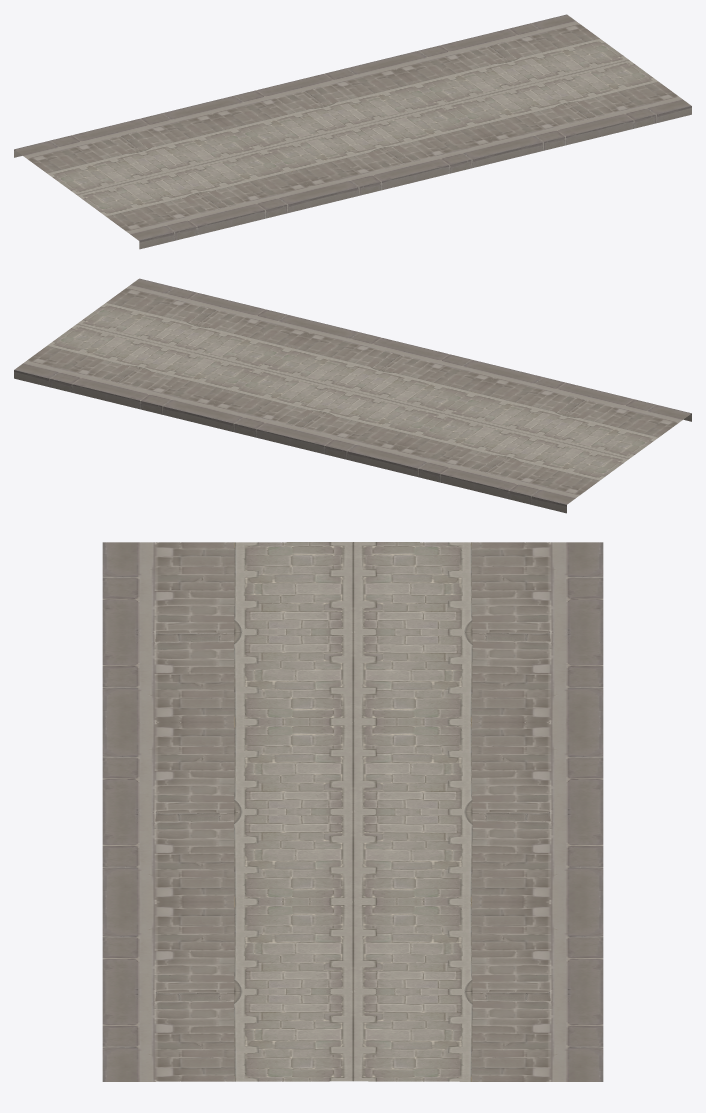
The model's file is mod_zlc_jianzhu064_xy.FBX.
3 views of the same model, one above another, from view 1: azimuth 30°, elevation 25°; view 2: azimuth 150°, elevation 25°; view 3: azimuth 270°, elevation 25° (orthographic). The views are drawn at different scales.
Parts seen in each view (by area): view 1: mod_zlc_jianzhu064_xy; view 2: mod_zlc_jianzhu064_xy; view 3: mod_zlc_jianzhu064_xy.
Part boxes in pixels (x1,y1,x2,y2): mod_zlc_jianzhu064_xy: [14, 14, 691, 249]; mod_zlc_jianzhu064_xy: [14, 278, 691, 513]; mod_zlc_jianzhu064_xy: [102, 542, 603, 1081].
Bounding box in the file's own units: 2240 × 33.96 × 878.
Materials: 2 (2 with a texture image).
